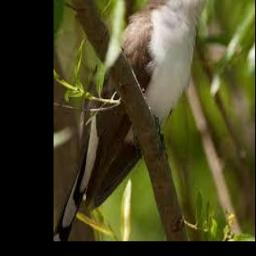Cuckoo: (54, 0, 231, 241)
